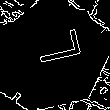L_W: (24, 34, 81, 76)
